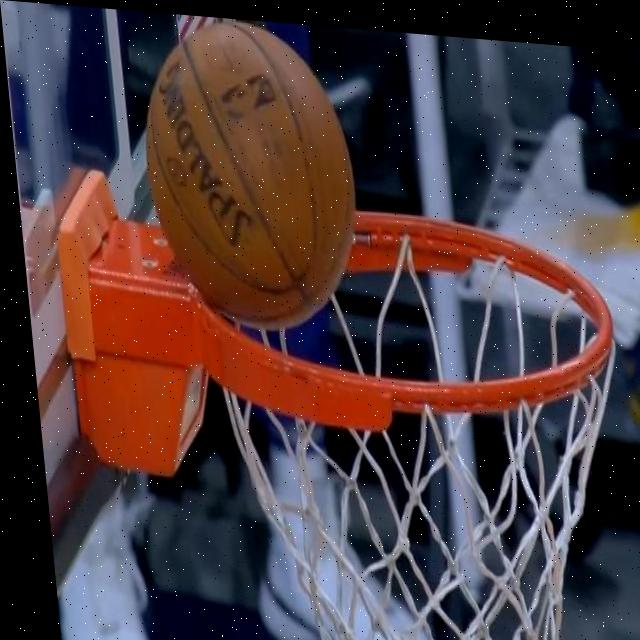rebound_hit: (134, 12, 371, 333)
